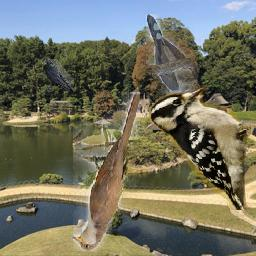Crow: (42, 59, 75, 93)
Cuckoo: (74, 93, 141, 252), (146, 15, 198, 106)
Woodpecker: (149, 86, 251, 210)
